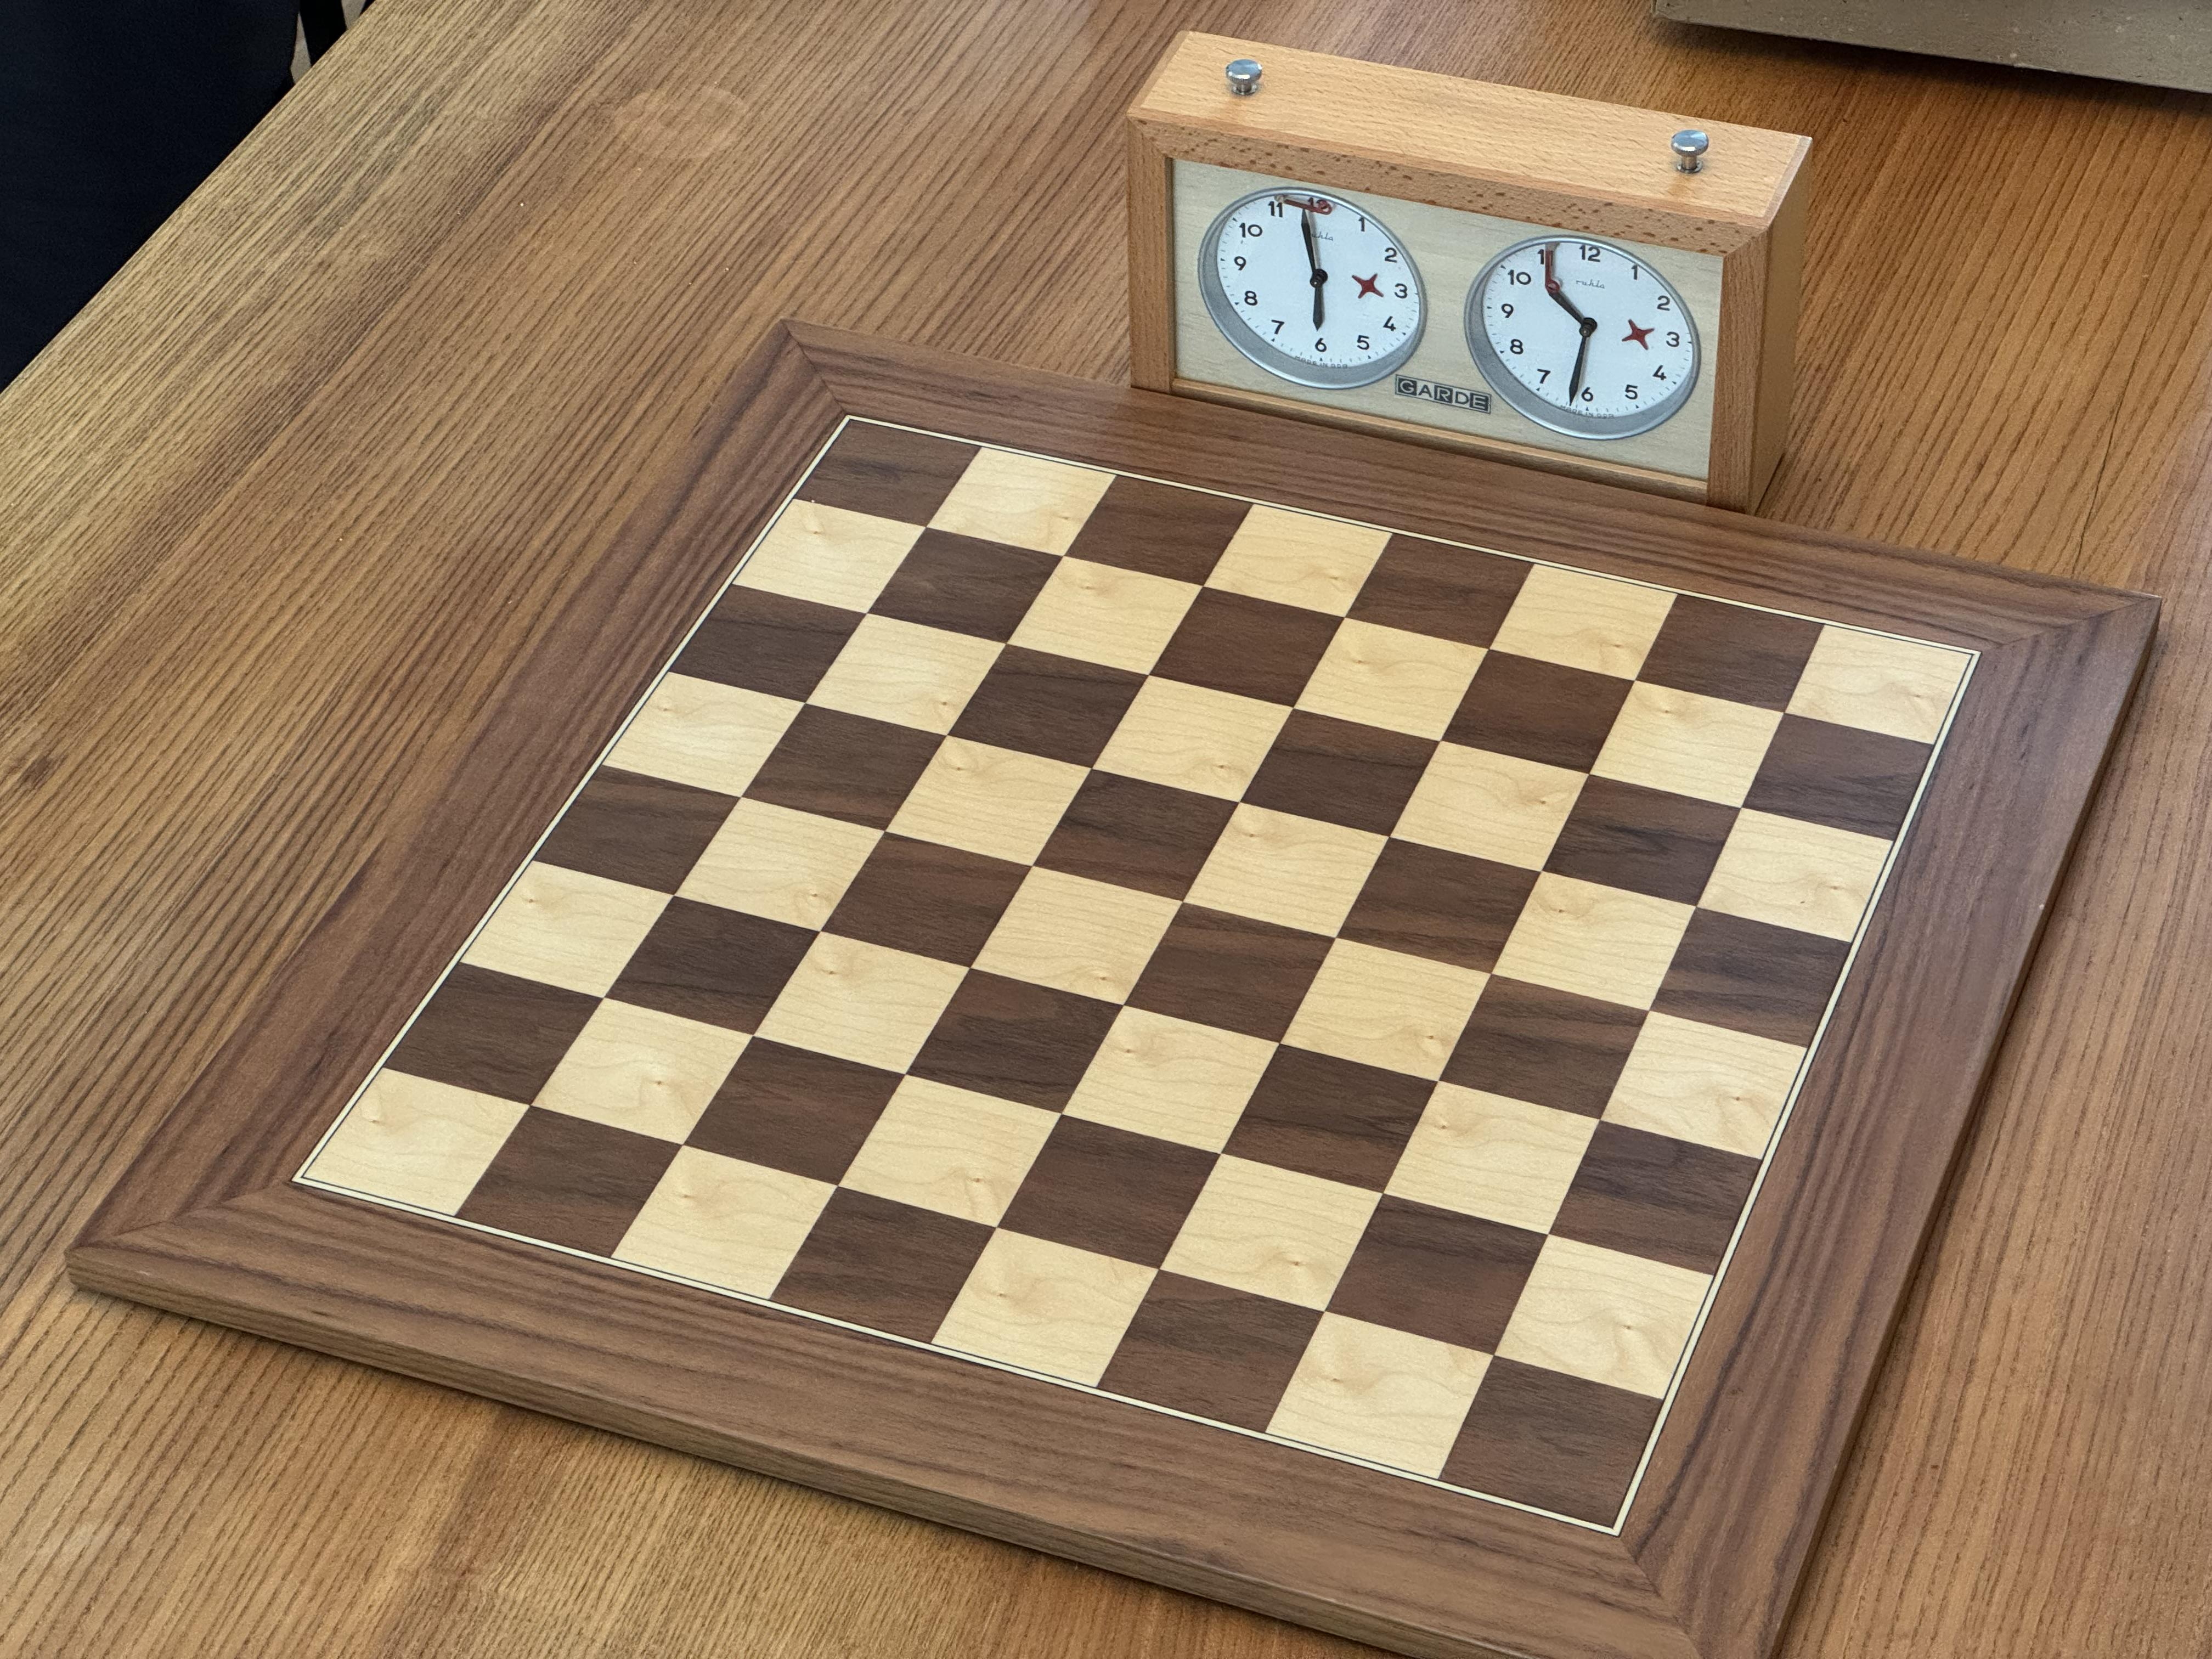corner A: (212, 1093, 381, 1260)
corner B: (1529, 1453, 1703, 1617)
corner C: (1892, 573, 2055, 735)
